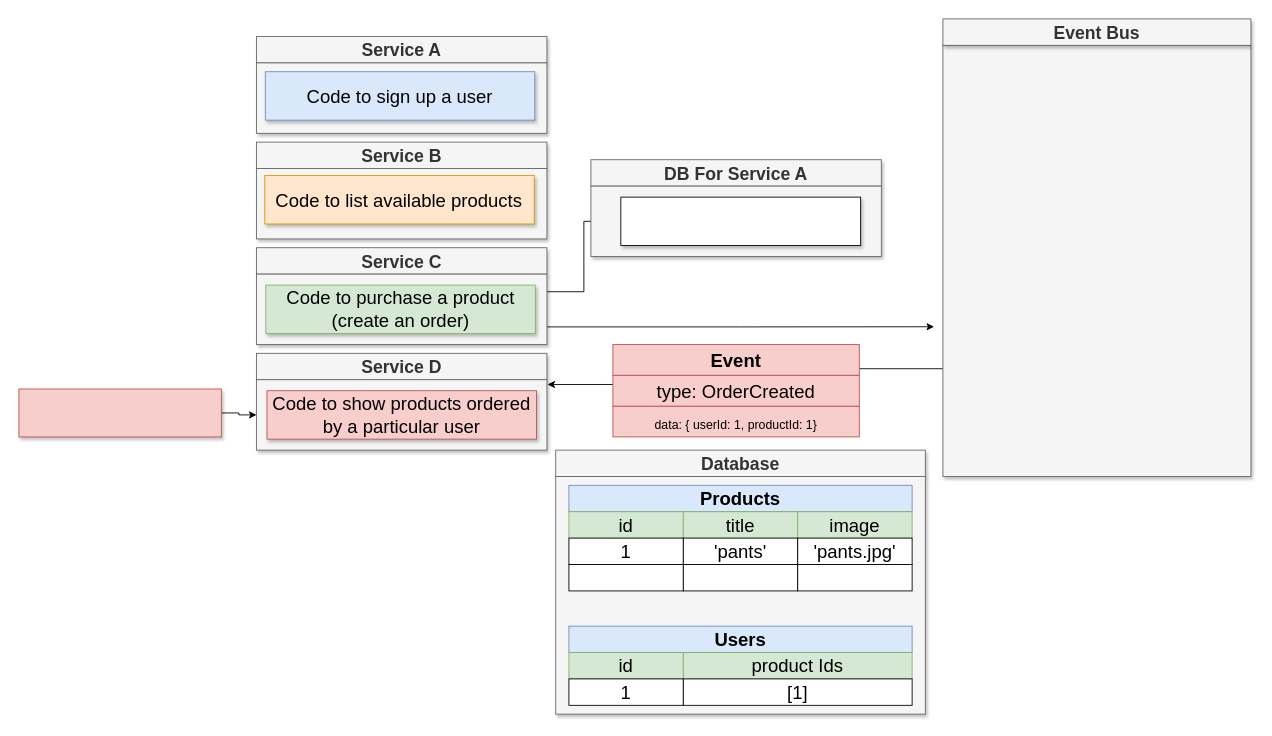
Image size: 1272x736. Some labels were removed from this diagram. The shapes that lost their labels are listed below. From the top down, each one's centre as x and y in pixels, then its label:
At point 741,222: "User Collection".
At point 121,414: "Request".
